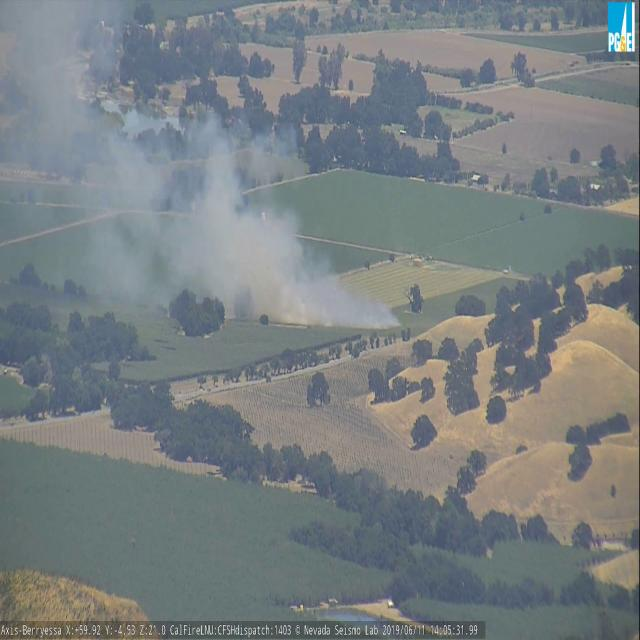smoke: (0, 0, 406, 335)
